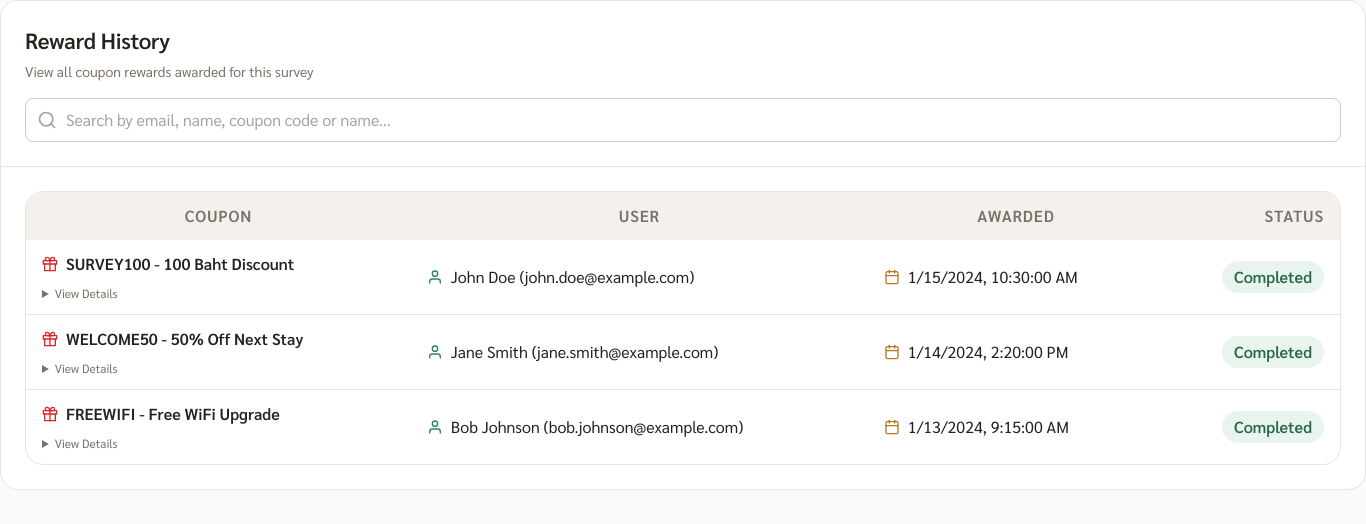
Test: SurveyRewardHistory › Empty Search Results › should display adjust search helper text for empty search results
Expected: the text "John Doe (john.doe@example.com)" is shown, [451,265,694,289]
Type "xyz123" into the field with placeholder "Search by email, name, coupon code or name...".
click(683, 120); type("xyz123")  # box [25,98,1341,142]
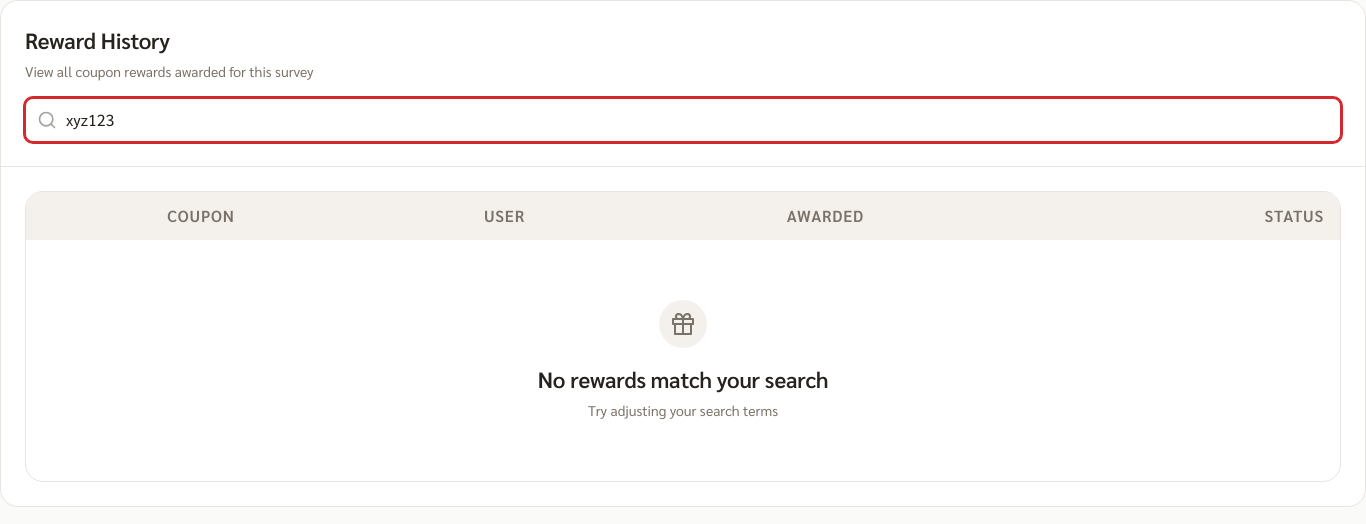
Now the text "Try adjusting your search terms" is shown, box [588,400,778,421]
